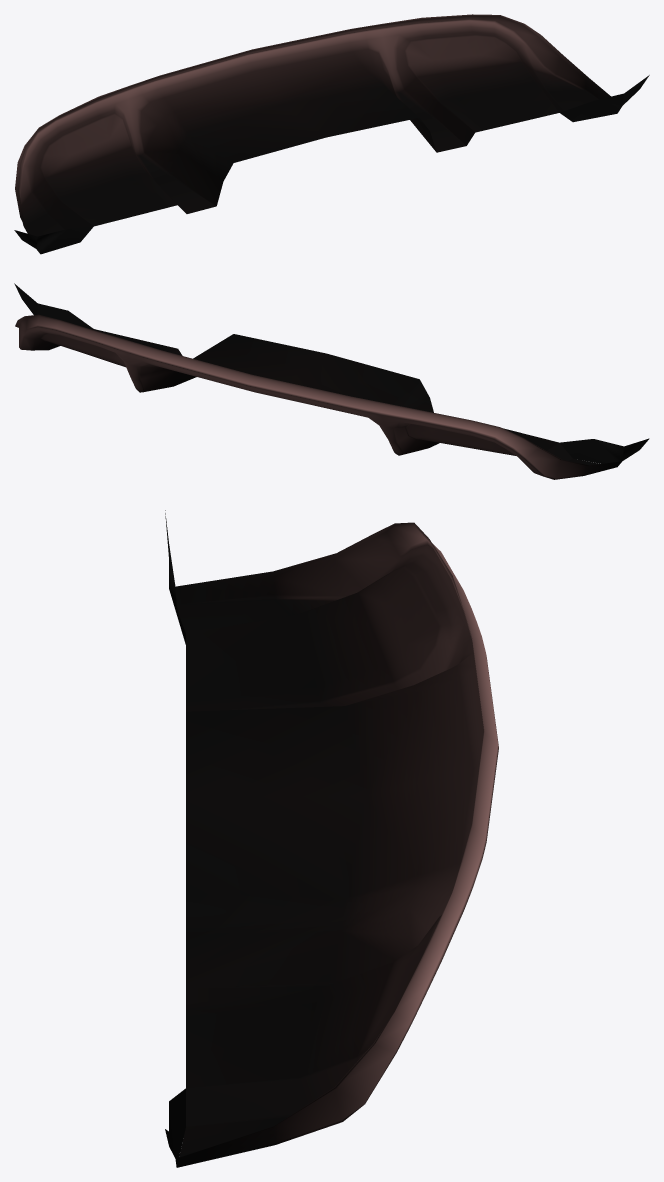
File: Zr1_RB_01_Trim.fbx
3 views of the same model, one above another, from view 1: azimuth 30°, elevation 25°; view 2: azimuth 150°, elevation 25°; view 3: azimuth 270°, elevation 25° (orthographic). The views are drawn at different scales.
Visible parts, largest first — view 1: Zr1_RB_01_Trim; view 2: Zr1_RB_01_Trim; view 3: Zr1_RB_01_Trim.
Boxes of the visible parts, box(x1,y1,x2,y2) form: Zr1_RB_01_Trim: box(14, 14, 649, 254); Zr1_RB_01_Trim: box(14, 283, 649, 479); Zr1_RB_01_Trim: box(165, 510, 498, 1167).
Size of the model in its own units: 173 by 20.43 by 39.47.
